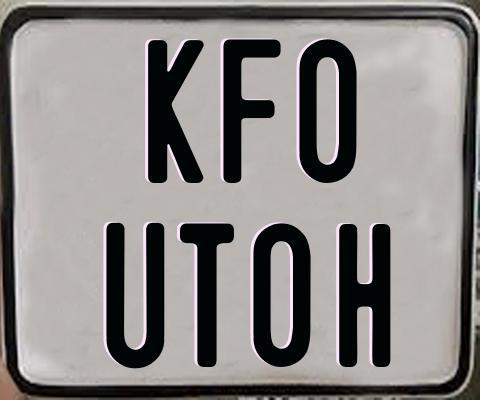0: (250, 221, 314, 369), (296, 37, 359, 185)
F: (220, 39, 282, 187)
H: (337, 224, 393, 368)
K: (147, 39, 204, 184)
T: (179, 221, 239, 365)
U: (104, 223, 166, 371)
